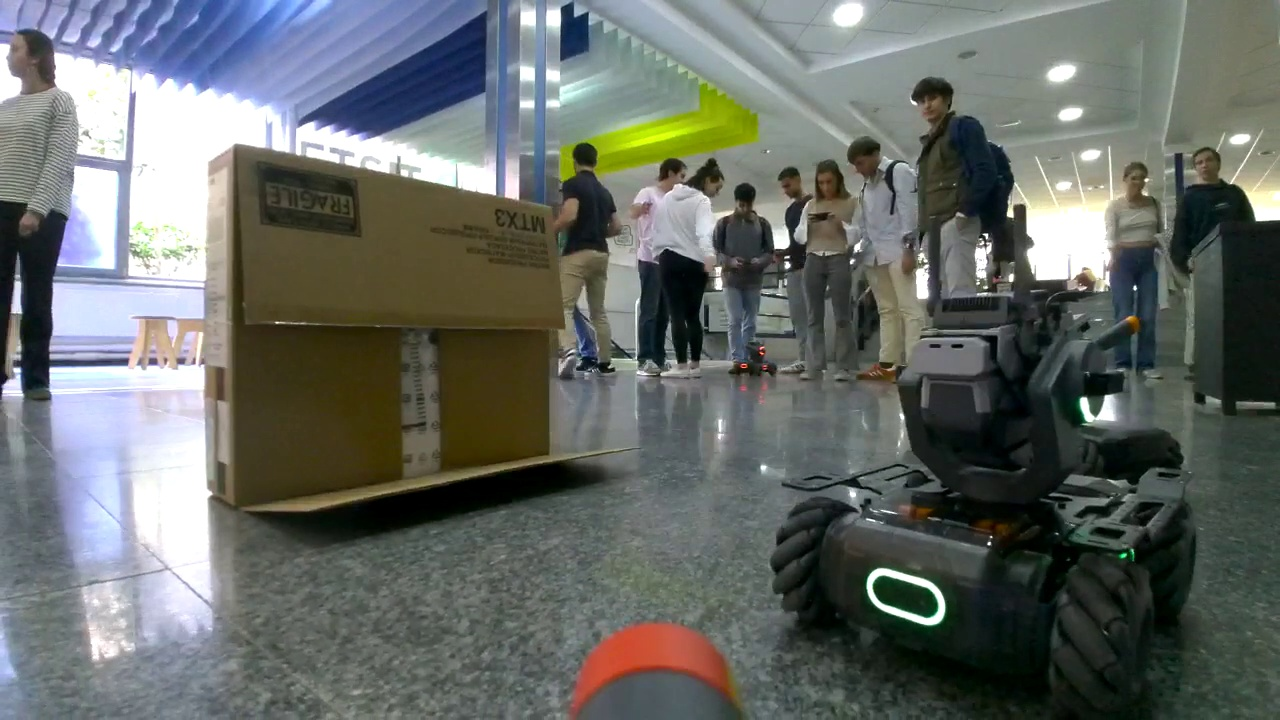robot: (771, 290, 1200, 711), (729, 337, 782, 379)
